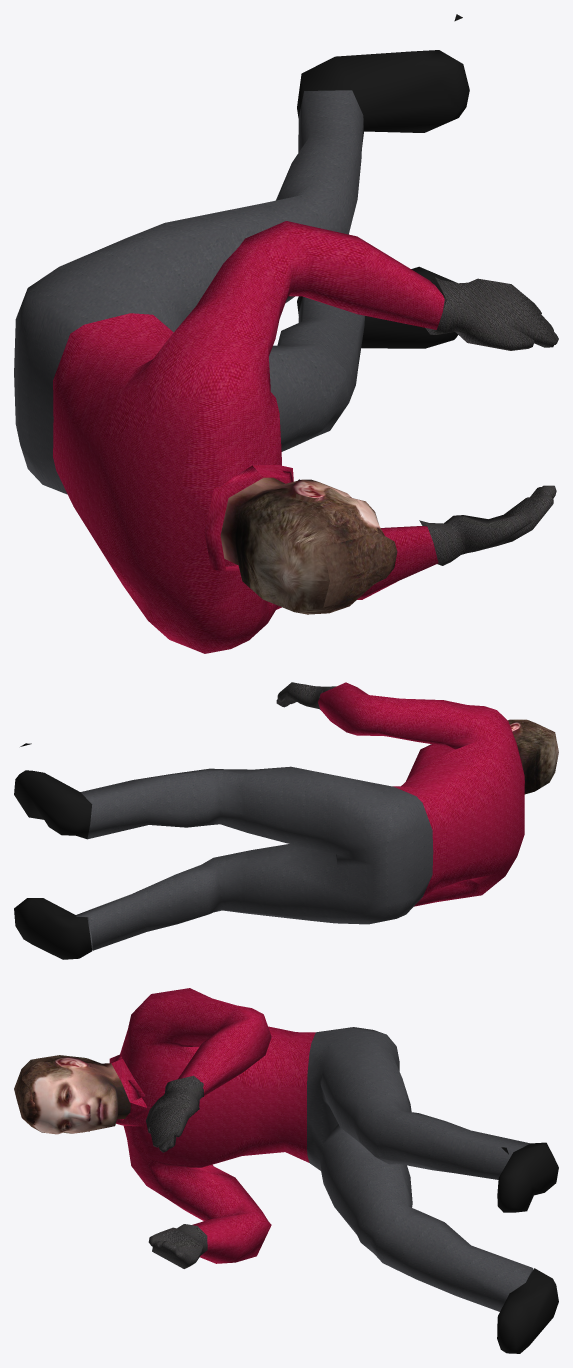
The model's file is driver.obj.
3 views of the same model, one above another, from view 1: azimuth 30°, elevation 25°; view 2: azimuth 150°, elevation 25°; view 3: azimuth 270°, elevation 25° (orthographic). The views are drawn at different scales.
Visible parts, largest first — view 1: Shirt, Pants, 11___Default01, Shoes, glove, 12___Default; view 2: Pants, Shirt, Shoes, 11___Default01, glove; view 3: Shirt, Pants, 11___Default01, Shoes, glove.
Boxes of the visible parts, x1=… form: Shirt: x1=53, y1=221, x2=444, y2=653; Pants: x1=14, y1=90, x2=364, y2=494; 11___Default01: x1=220, y1=477, x2=397, y2=614; Shoes: x1=297, y1=14, x2=469, y2=348; glove: x1=419, y1=277, x2=558, y2=565; 12___Default: x1=323, y1=530, x2=392, y2=607; Pants: x1=75, y1=766, x2=433, y2=950; Shirt: x1=318, y1=682, x2=524, y2=906; Shoes: x1=14, y1=743, x2=92, y2=959; 11___Default01: x1=508, y1=719, x2=558, y2=794; glove: x1=276, y1=682, x2=336, y2=709; Shirt: x1=109, y1=988, x2=315, y2=1263; Pants: x1=307, y1=1027, x2=533, y2=1311; 11___Default01: x1=21, y1=1055, x2=130, y2=1134; Shoes: x1=497, y1=1142, x2=558, y2=1353; glove: x1=146, y1=1075, x2=207, y2=1268.
Size of the model in its own units: 1.05 by 0.6201 by 1.28.
Materials: 6 (5 with a texture image).
